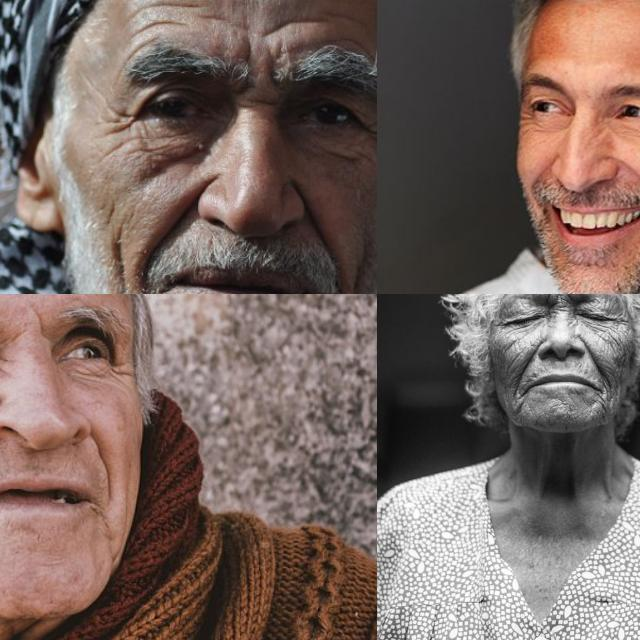crows_feet: (103, 99, 137, 141), (514, 107, 536, 141), (107, 361, 129, 393), (361, 108, 377, 151)
forehead: (134, 0, 188, 34), (260, 10, 320, 40), (226, 0, 311, 8)
frown_line: (238, 35, 258, 67), (32, 308, 46, 340), (546, 294, 572, 306)
gummy_smile: (140, 192, 196, 252), (293, 187, 339, 260), (90, 434, 114, 492), (576, 334, 602, 376), (611, 155, 640, 187), (528, 155, 558, 185), (517, 345, 537, 379)
masseter: (99, 234, 138, 294), (607, 328, 629, 356), (120, 482, 130, 540)
sad_smile: (87, 497, 109, 527), (592, 386, 610, 420), (510, 387, 526, 413)
